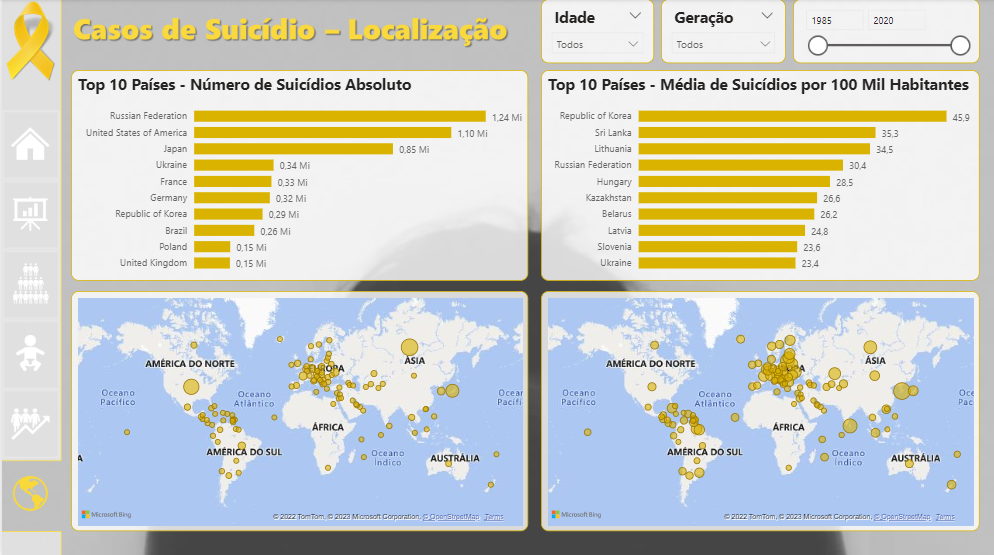

Layout of this report page (visuals, bound fields, positions):
{"tool":"powerbi","page":{"name":"Localização_Geográfica","canvas":[1280,720],"ordinal":5},"visuals":[{"type":"map","fields":{"Category":["master.country - tratada"],"Size":["Sum(master.suicides_no)"]},"box":[89.2,377.4,590.3,309.8],"z":0},{"type":"barChart","title":"Top 10 Países - Número de Suicídios Absoluto","fields":{"Y":["Sum(master.suicides_no)"],"Category":["master.country - tratada"]},"box":[89.2,91.8,590.3,271.6],"z":1000},{"type":"map","fields":{"Category":["master.country - tratada"],"Size":["Avg(master.suicides/100k pop)"]},"box":[696.1,377.4,566.1,309.8],"z":2000},{"type":"barChart","title":"Top 10 Países - Média de Suicídios por 100 Mil Habitantes","fields":{"Y":["Avg(master.suicides/100k pop)"],"Category":["master.country - tratada"]},"box":[696.1,91.8,566.1,271.6],"z":3000},{"type":"actionButton","box":[0,143.2,74.8,90.3],"z":4000},{"type":"actionButton","box":[0,233.5,74.8,90.3],"z":5000},{"type":"actionButton","box":[0,323.9,74.8,90.3],"z":6000},{"type":"actionButton","box":[0,413.9,75.1,90],"z":7000},{"type":"actionButton","box":[0,503.2,74.8,90.3],"z":8000},{"type":"slicer","fields":{"Values":["master.year"]},"box":[1020.6,0,241.3,82.6],"z":9000},{"type":"slicer","fields":{"Values":["master.age"]},"box":[695.5,0,145.8,82.6],"z":9001},{"type":"slicer","fields":{"Values":["master.generation"]},"box":[850.3,0,161.3,82.6],"z":9002}]}

Visuals, with their boxes on the page's 1280x720 design canvas (x1, y1, x2, y2). These are canvas units, not pixel positions in the 994x555 screenshot, which may show the page scaled, cropped or inside an application window:
map - master.country - tratada x Sum(master.suicides_no): region(89, 377, 680, 687)
"Top 10 Países - Número de Suicídios Absoluto" barChart: region(89, 92, 680, 363)
map - master.country - tratada x Avg(master.suicides/100k pop): region(696, 377, 1262, 687)
"Top 10 Países - Média de Suicídios por 100 Mil Habitantes" barChart: region(696, 92, 1262, 363)
actionButton: region(0, 143, 75, 234)
actionButton: region(0, 234, 75, 324)
actionButton: region(0, 324, 75, 414)
actionButton: region(0, 414, 75, 504)
actionButton: region(0, 503, 75, 594)
slicer - master.year: region(1021, 0, 1262, 83)
slicer - master.age: region(696, 0, 841, 83)
slicer - master.generation: region(850, 0, 1012, 83)
